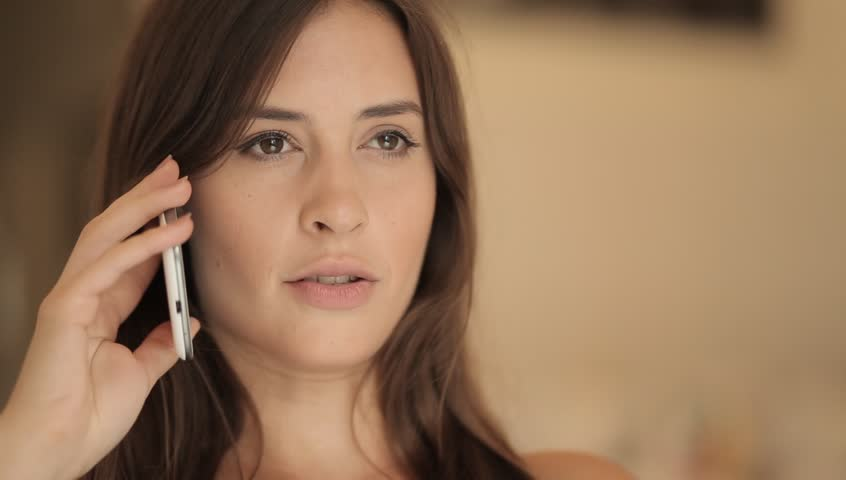phone: (42, 143, 219, 376)
talk: (16, 85, 445, 464)
